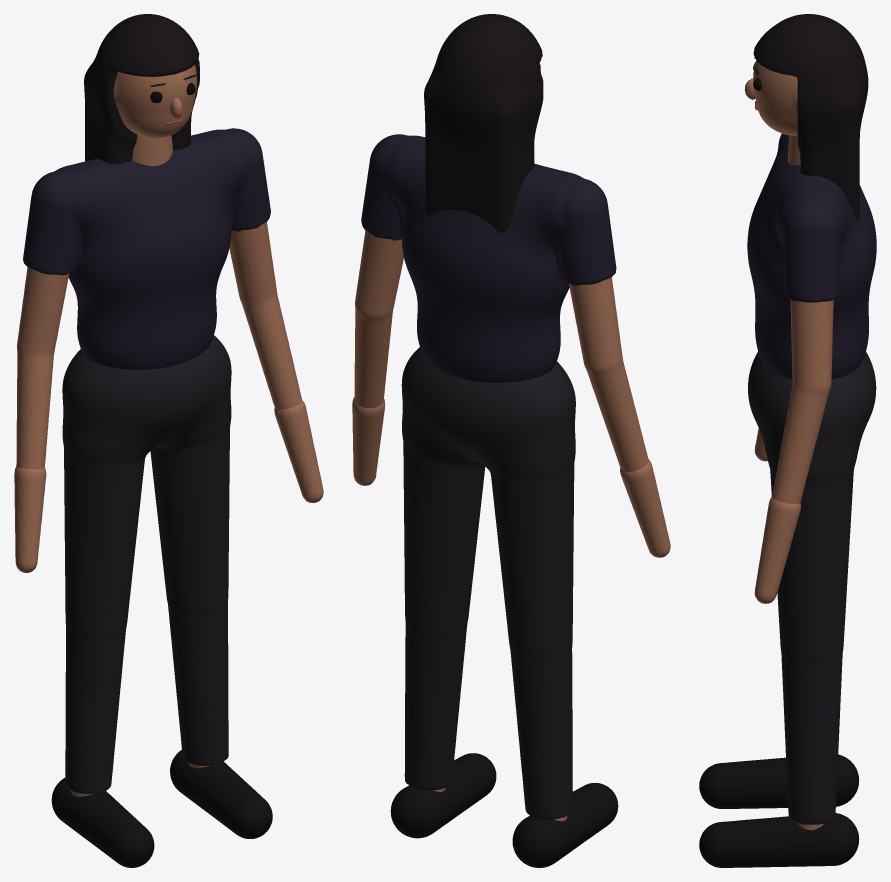
The picture shows the model from 3 angles, left to right: view 1: azimuth 30°, elevation 25°; view 2: azimuth 150°, elevation 25°; view 3: azimuth 270°, elevation 25°; orthographic projection. The views are drawn at different scales.
Visible parts, largest first — view 1: clothing.bottom, clothing.top, arms, clothing.shoes, hair, hands, head, neck; view 2: clothing.bottom, clothing.top, hair, arms, clothing.shoes, hands; view 3: clothing.bottom, clothing.top, hair, clothing.shoes, arms, hands, head.
Boxes of the visible parts, x1,y1,x2,y2 form: clothing.bottom: [62, 335, 231, 793]; clothing.top: [23, 128, 270, 369]; arms: [16, 222, 302, 469]; clothing.shoes: [51, 750, 272, 867]; hair: [84, 14, 199, 164]; hands: [14, 400, 323, 572]; head: [113, 65, 196, 138]; neck: [132, 134, 172, 166]; clothing.bottom: [401, 347, 575, 819]; clothing.top: [361, 134, 616, 382]; hair: [424, 14, 543, 232]; arms: [354, 230, 648, 471]; clothing.shoes: [390, 753, 618, 867]; hands: [352, 397, 670, 557]; clothing.bottom: [748, 351, 876, 824]; clothing.top: [747, 133, 876, 379]; hair: [753, 14, 868, 221]; clothing.shoes: [699, 754, 859, 867]; arms: [772, 300, 833, 504]; hands: [754, 428, 800, 603]; head: [753, 60, 797, 136].
Bounding box in the file's own units: 0.7001 × 1.76 × 0.3457.
